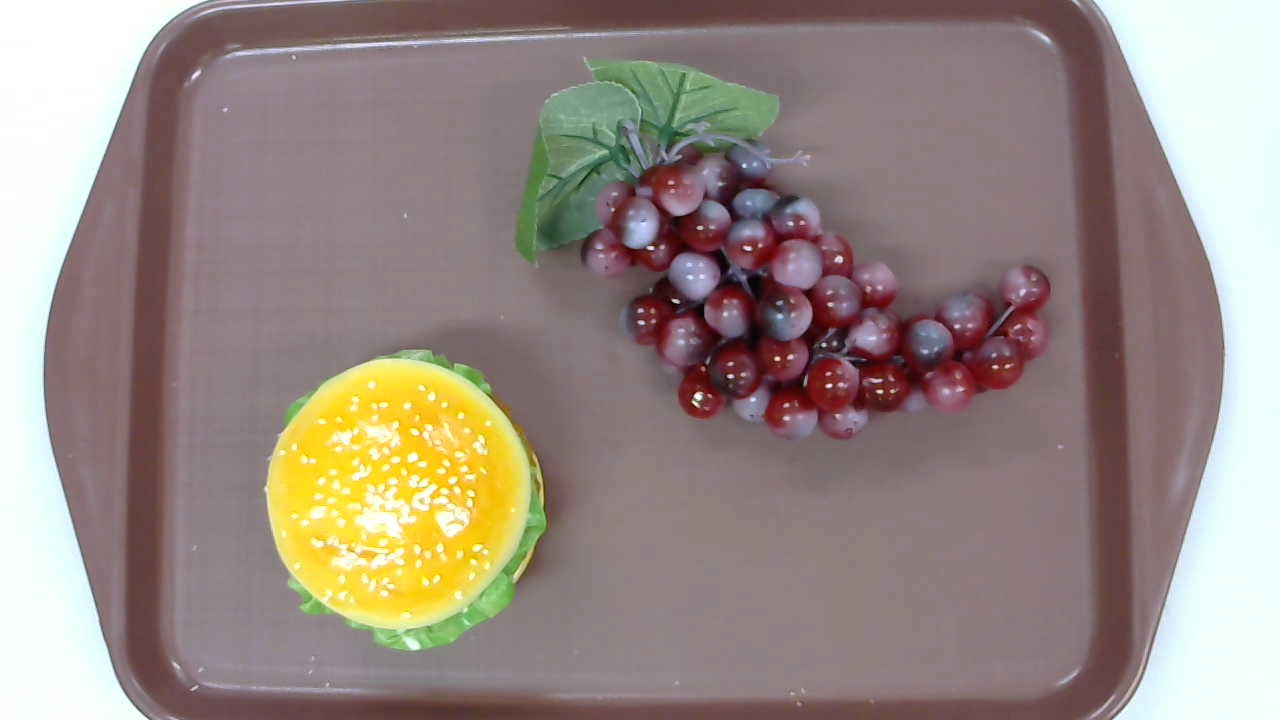grape: (514, 56, 1053, 440)
hamburger: (264, 350, 547, 651)
